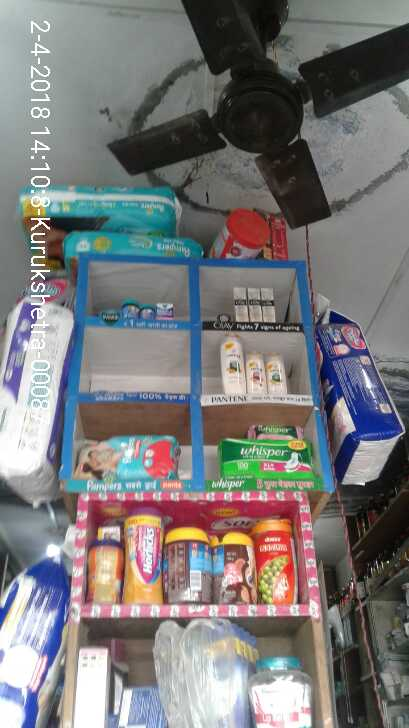vicks: (118, 299, 172, 321)
